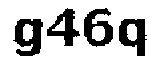4: (44, 5, 81, 51)
6: (83, 5, 116, 51)
g: (11, 16, 44, 59)
q: (119, 15, 150, 60)
